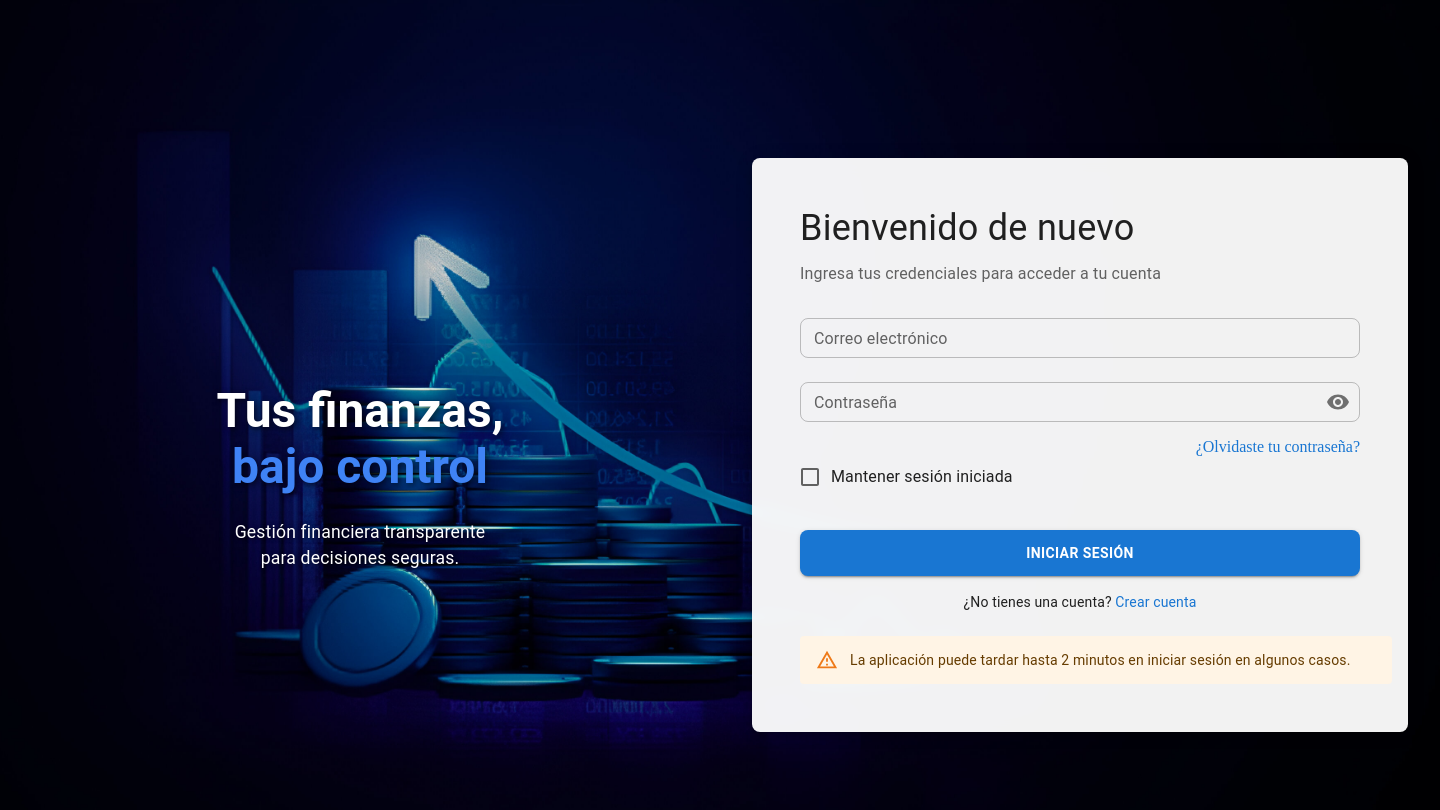
Scenario: LoginForm › muestra error cuando falla el login
This screenshot has width=1440, height=810.
Type "bad@mail.com" into the field labelled "Correo electrónico" at x=1080, y=338, box [800,318,1360,358]
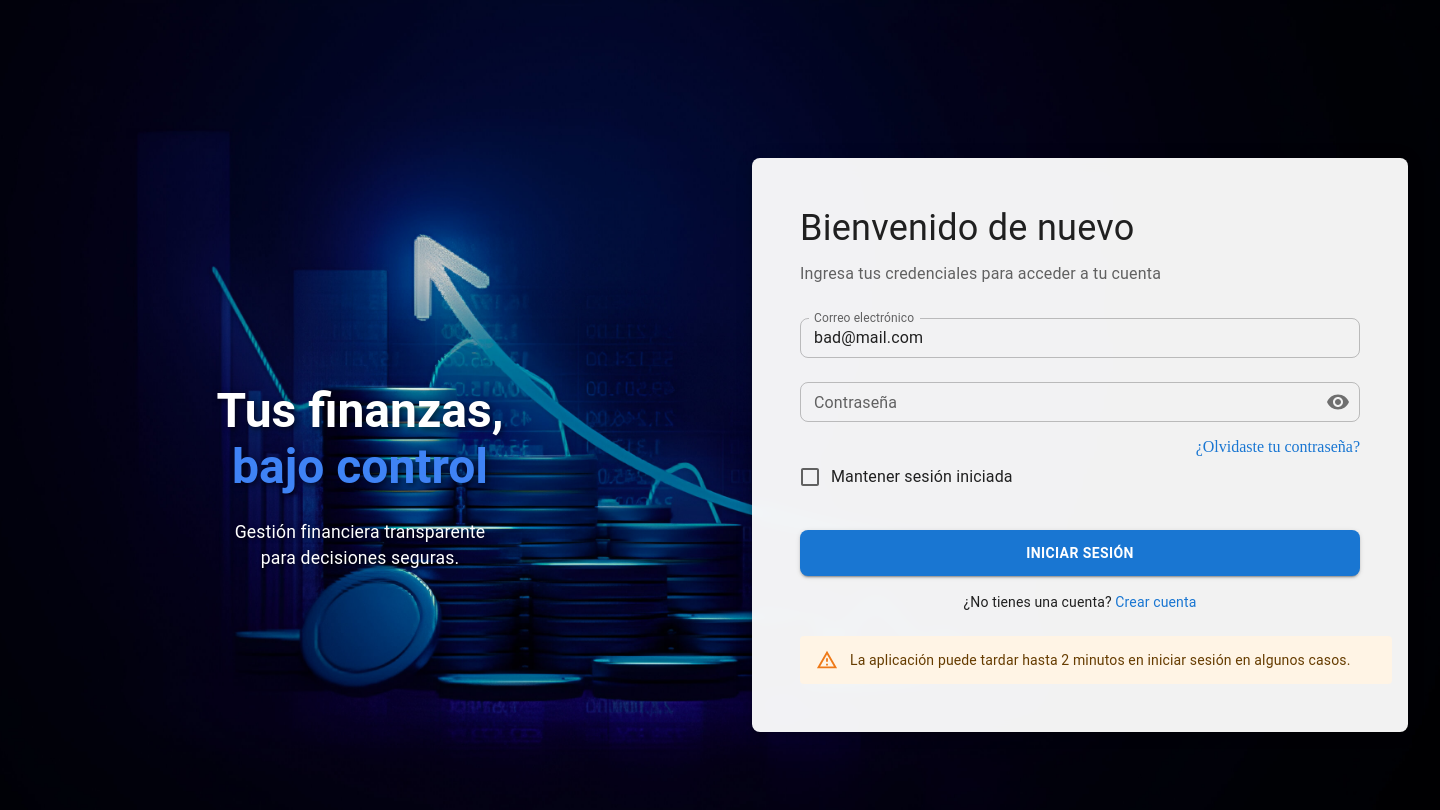
Type "badpass" into the password field labelled "Contraseña" at x=1055, y=402, box [800,382,1310,422]
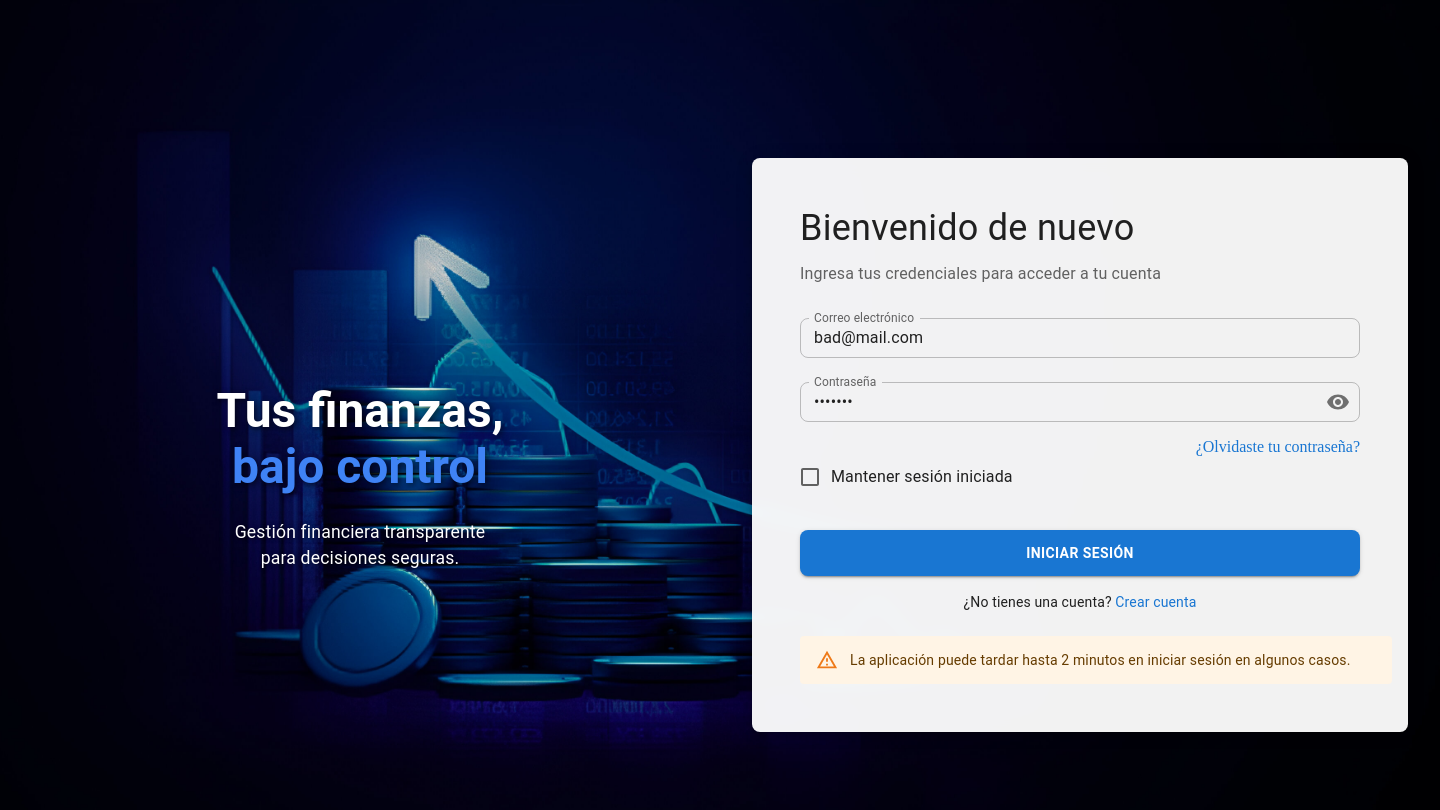
Click the button "Iniciar sesión" at x=1080, y=553, box [800,530,1360,576]
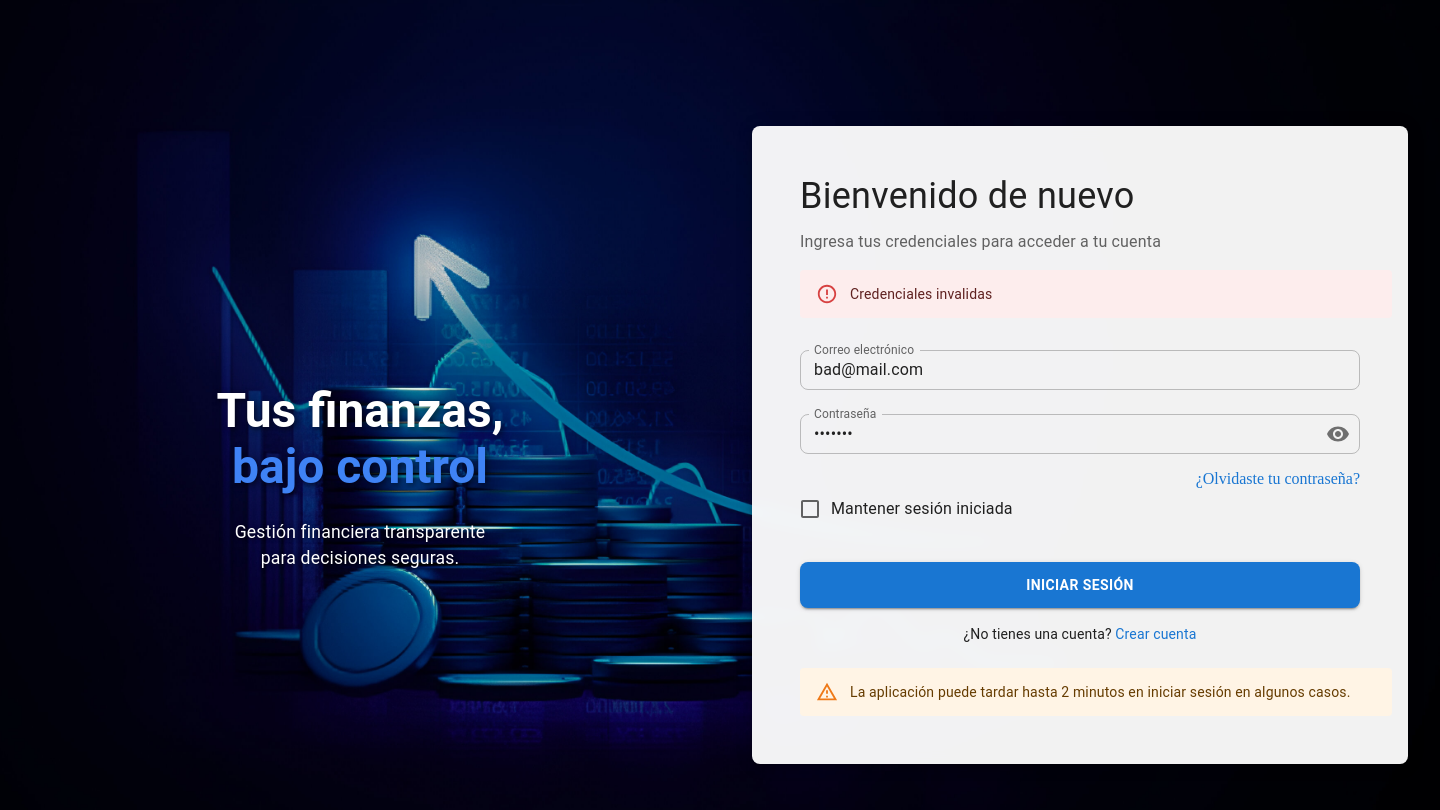
Check: the text "Credenciales invalidas" is shown, box [850,286,992,302]
